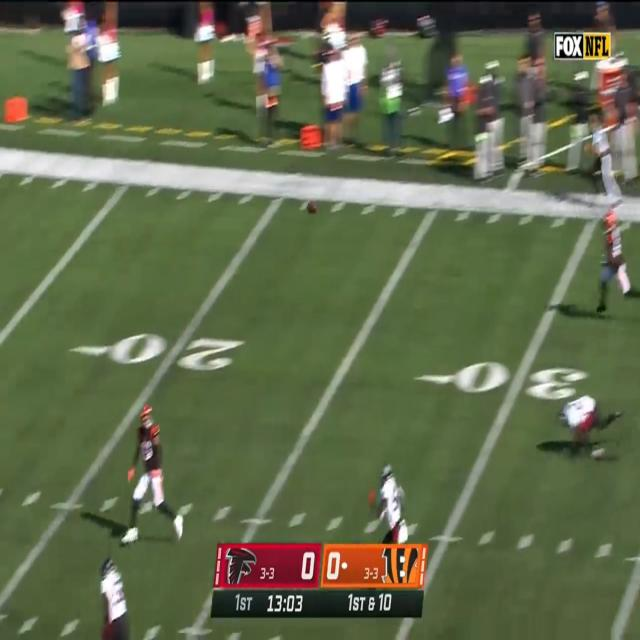Ball: (306, 195, 319, 216)
